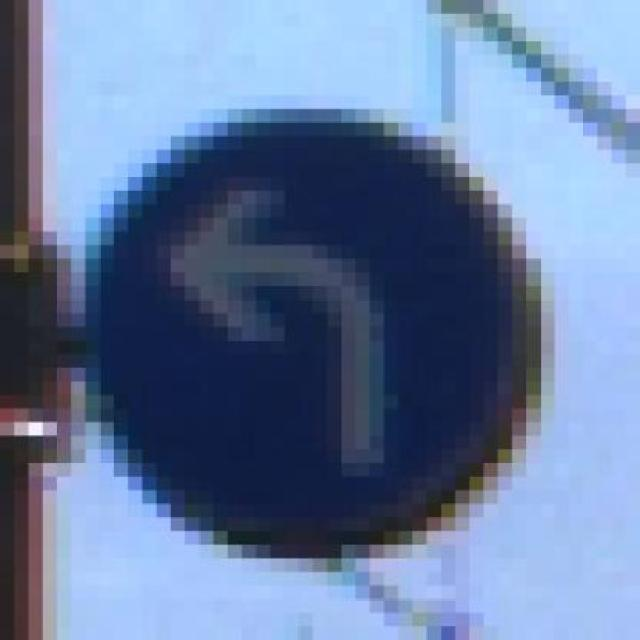Turn left ahead: (71, 95, 569, 572)
